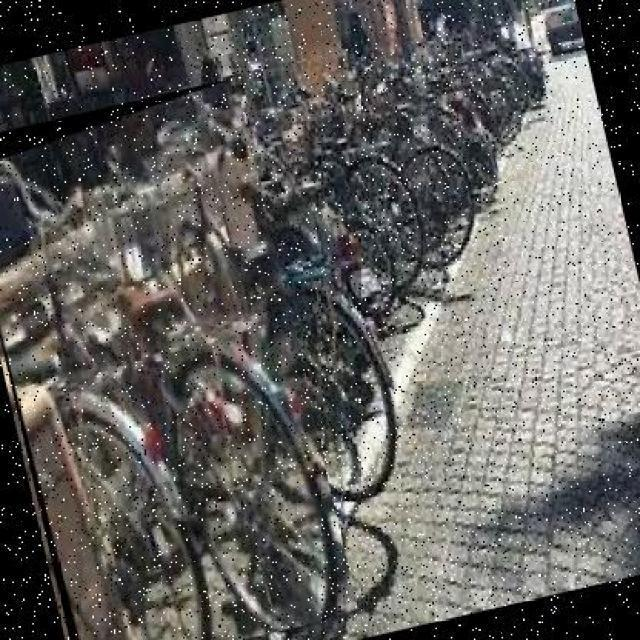bicycle: (1, 78, 361, 640)
